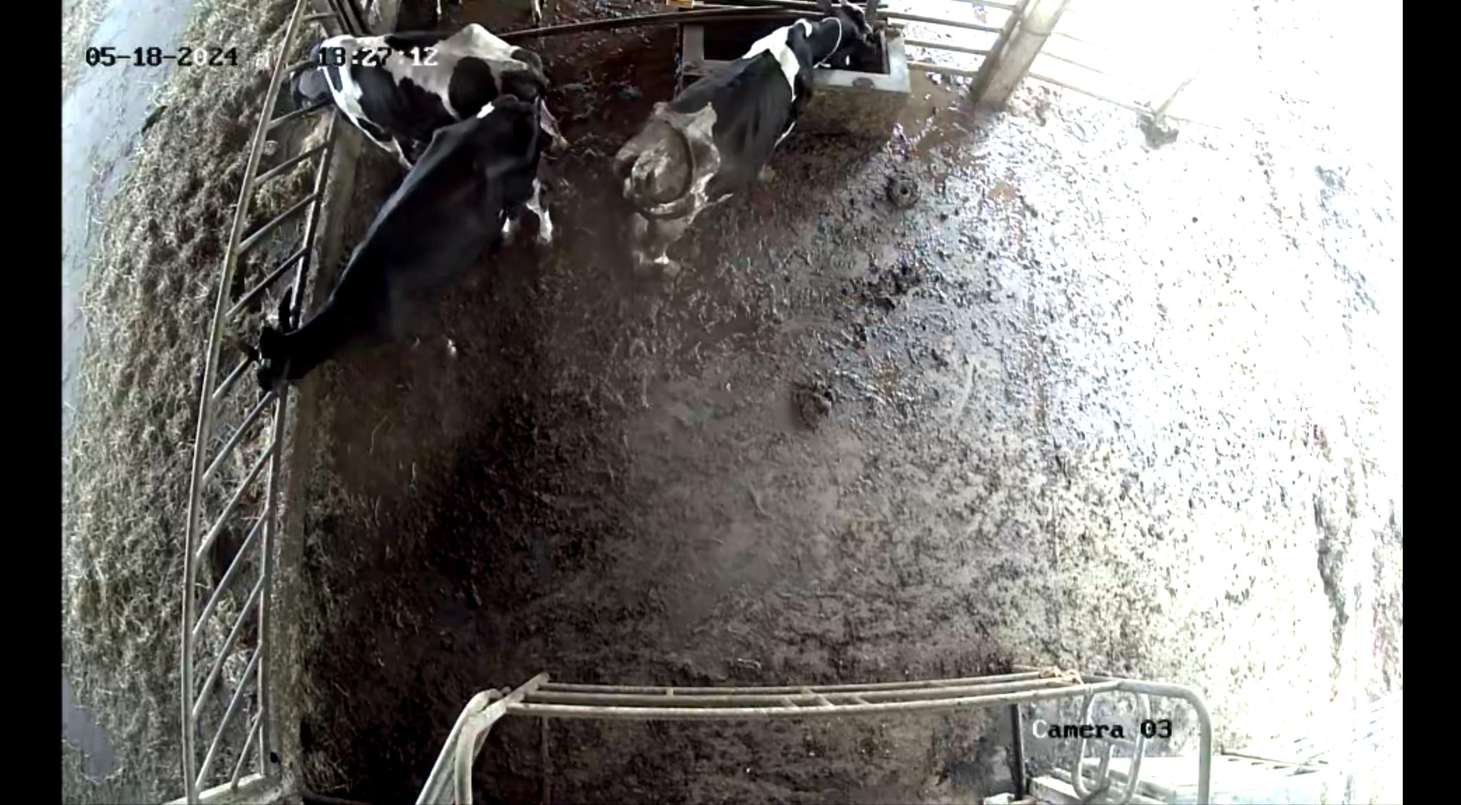drink: (788, 0, 886, 138)
eat: (239, 30, 395, 126)
stand: (208, 92, 570, 418)
